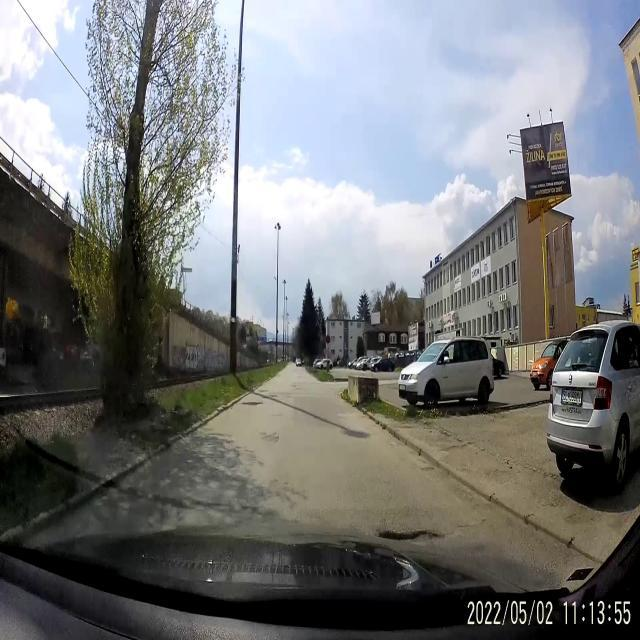Pothole: (378, 518, 446, 548), (258, 430, 282, 448), (240, 400, 266, 408)
